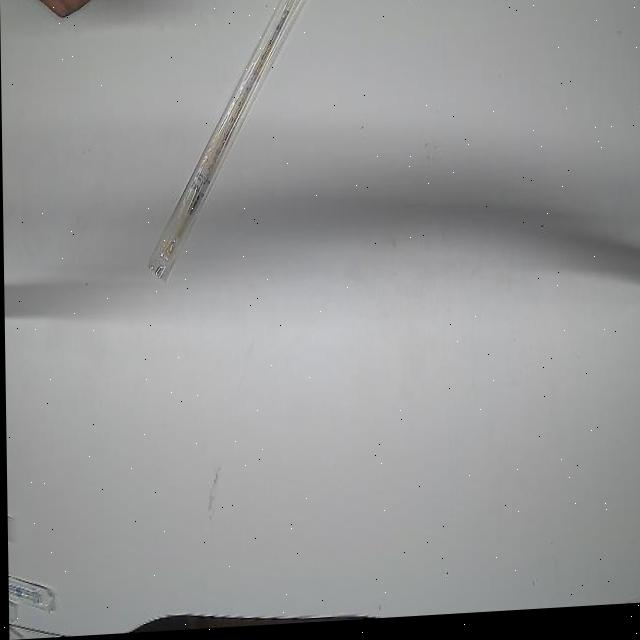Serelogical Pipet 1 mL - Sealed: (135, 0, 338, 290)
